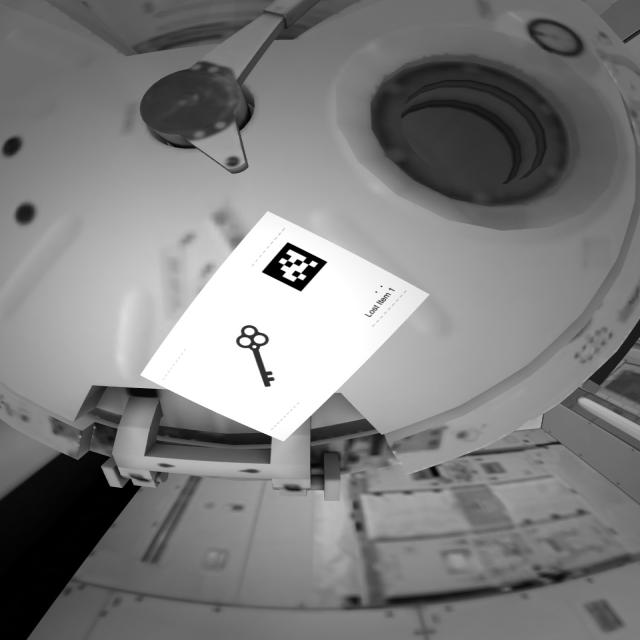key: (224, 318, 285, 402)
